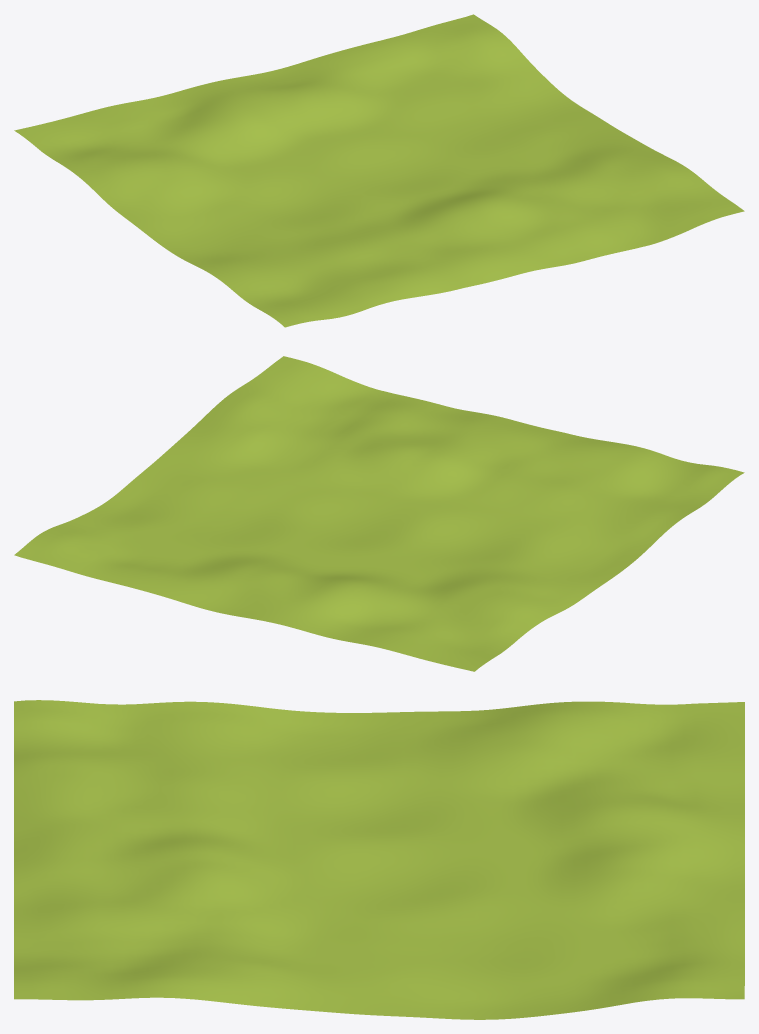
File: carre10.fbx
The picture shows the model from 3 angles, top to bottom: view 1: azimuth 30°, elevation 25°; view 2: azimuth 150°, elevation 25°; view 3: azimuth 270°, elevation 25°; orthographic projection. The views are drawn at different scales.
Parts seen in each view (by area): view 1: carre10; view 2: carre10; view 3: carre10.
Boxes of the visible parts, x1=… form: carre10: x1=14, y1=14, x2=744, y2=327; carre10: x1=14, y1=356, x2=744, y2=671; carre10: x1=14, y1=700, x2=744, y2=1019.
Size of the model in its own units: 709 by 27.68 by 720.
